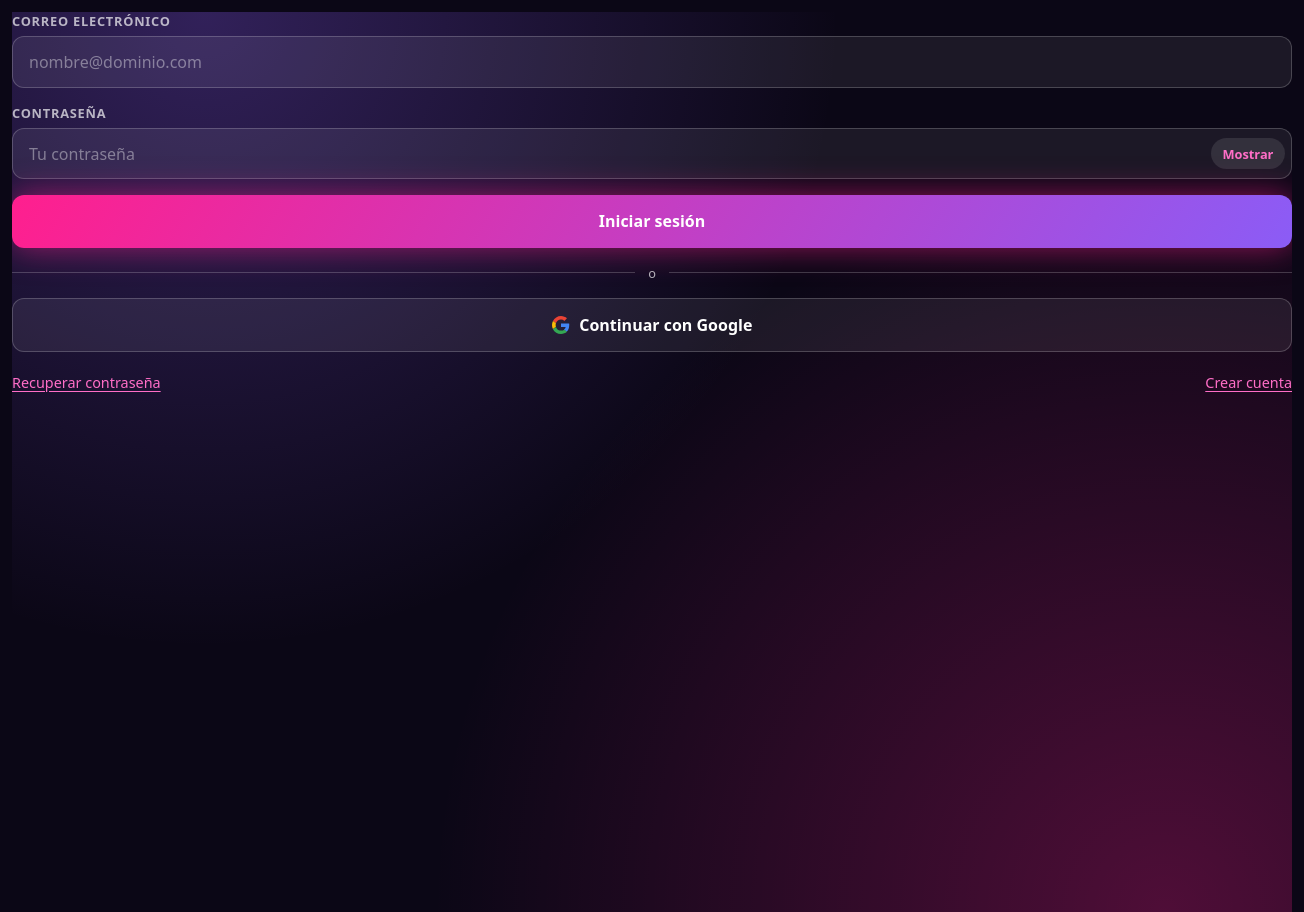
it: <LoginForm /> › un inicio de sesión exitoso muestra confirmación
In the field labelled "Correo electrónico": (652, 62) [13, 37, 1291, 87], type "ana@dominio.com"
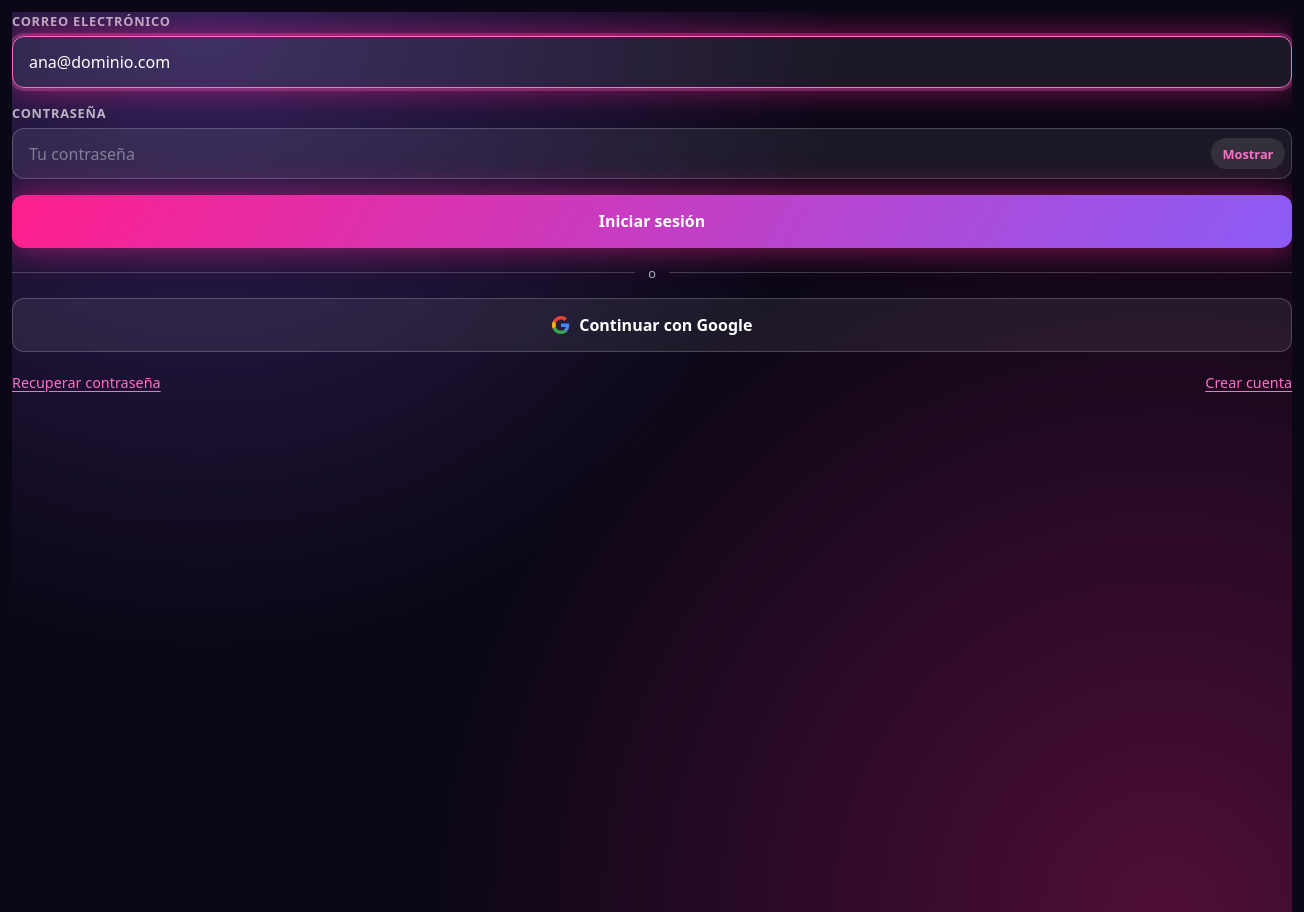
In the password field labelled "Contraseña": (612, 154) [13, 129, 1211, 178], type "secreta123"
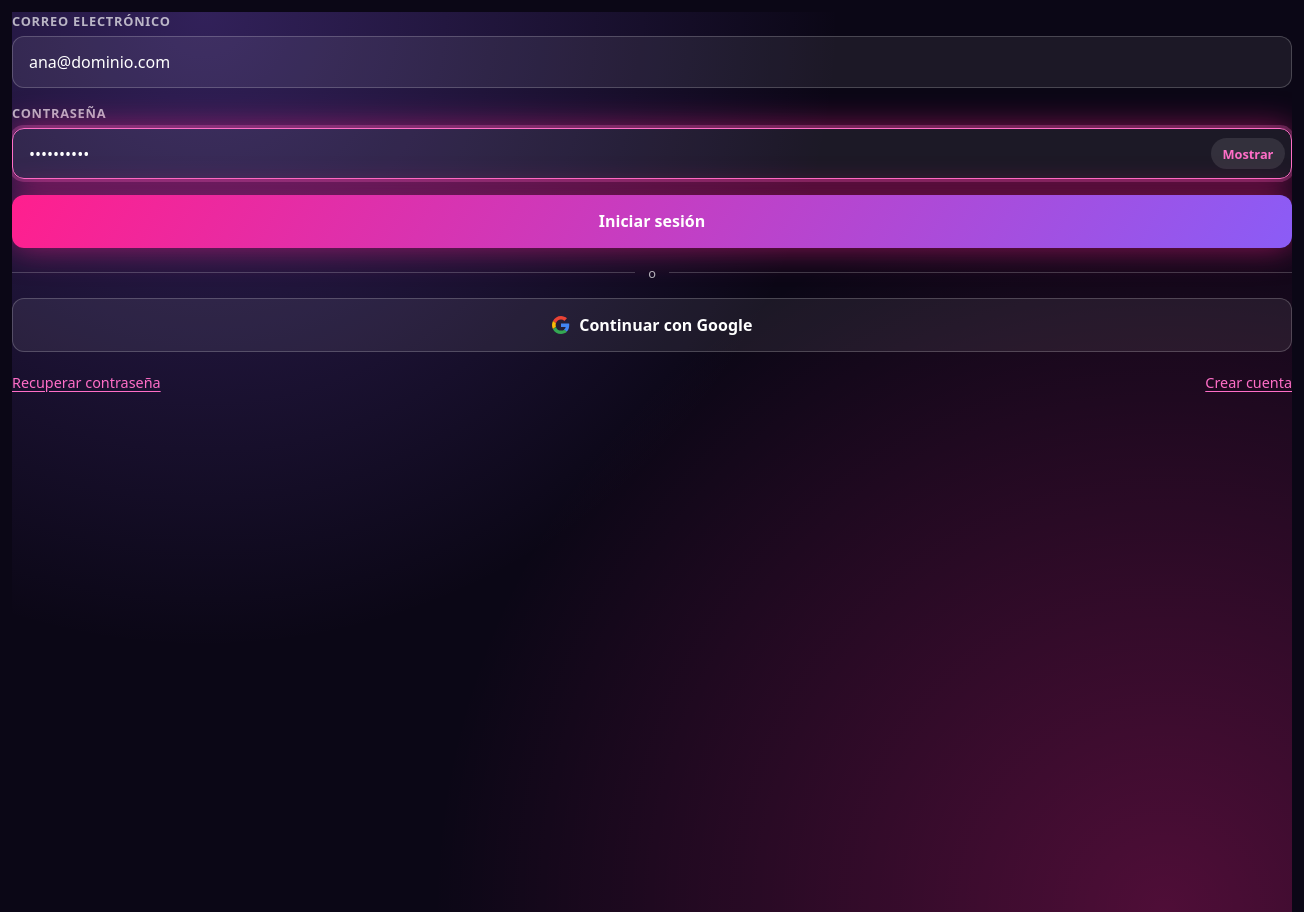
Click the button "Iniciar sesión": (652, 221) [12, 195, 1292, 248]
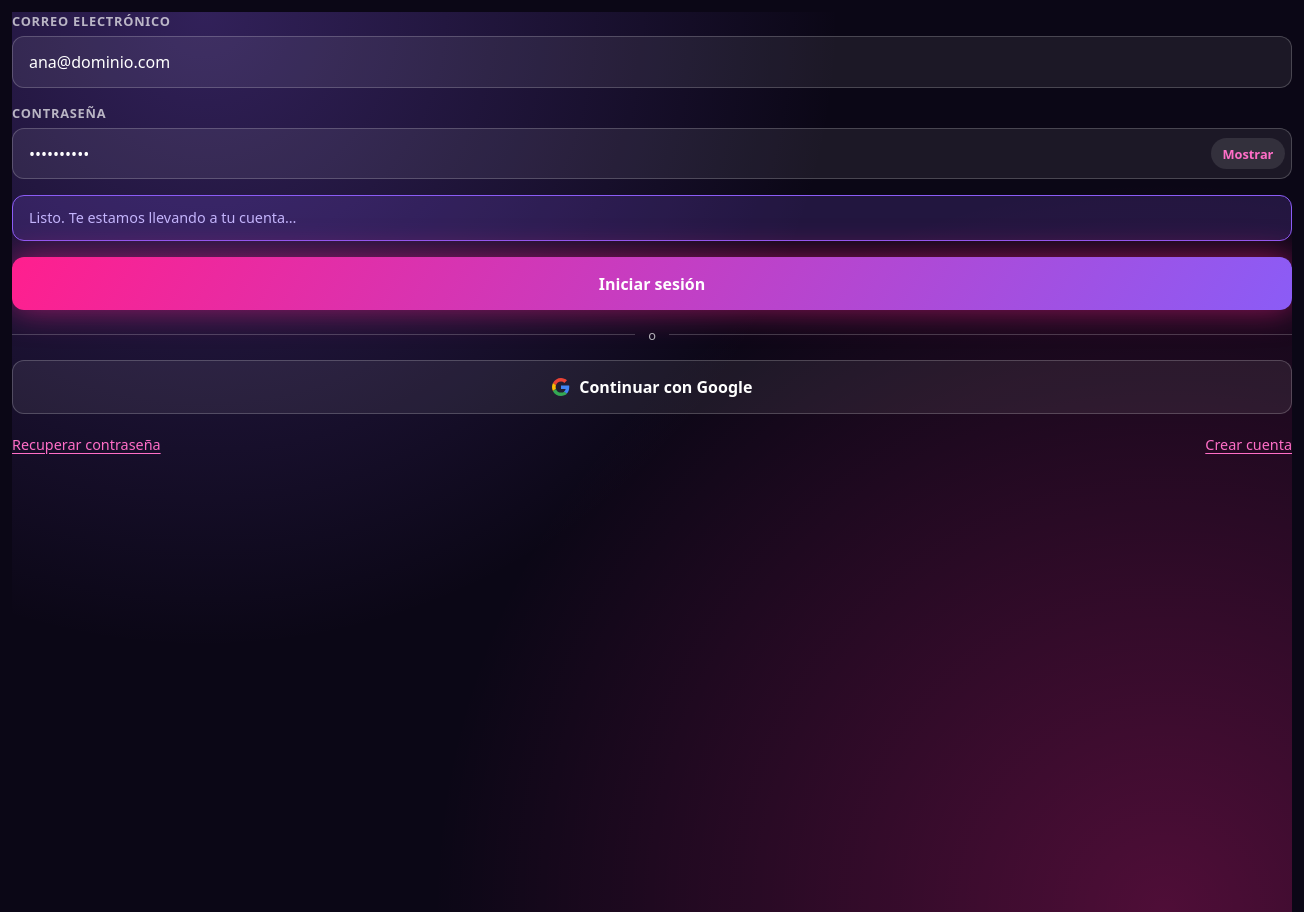
Now the message shows "Listo", box [29, 208, 296, 227]
